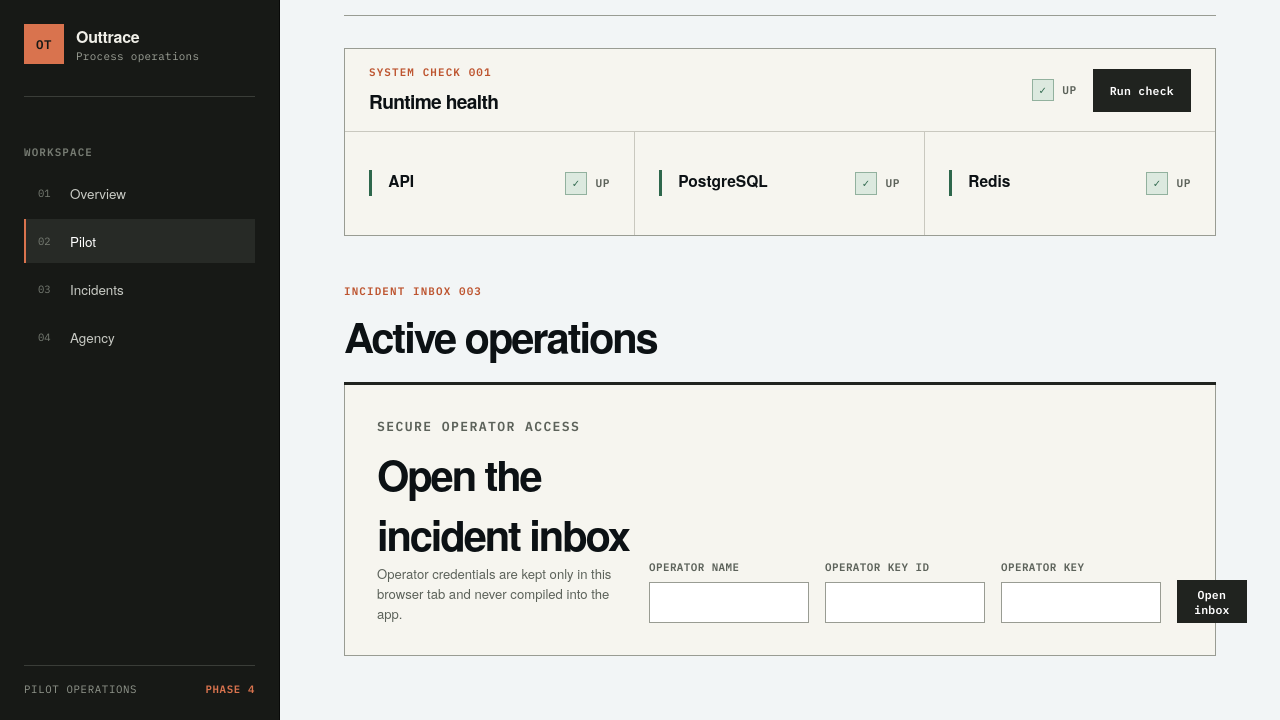
incident operations › authenticates an operator and renders a filterable incident
This screenshot has width=1280, height=720.
(page scrolled)
Type "Mina" into the field labelled "Operator name" at (729, 602), box [649,582,809,623]
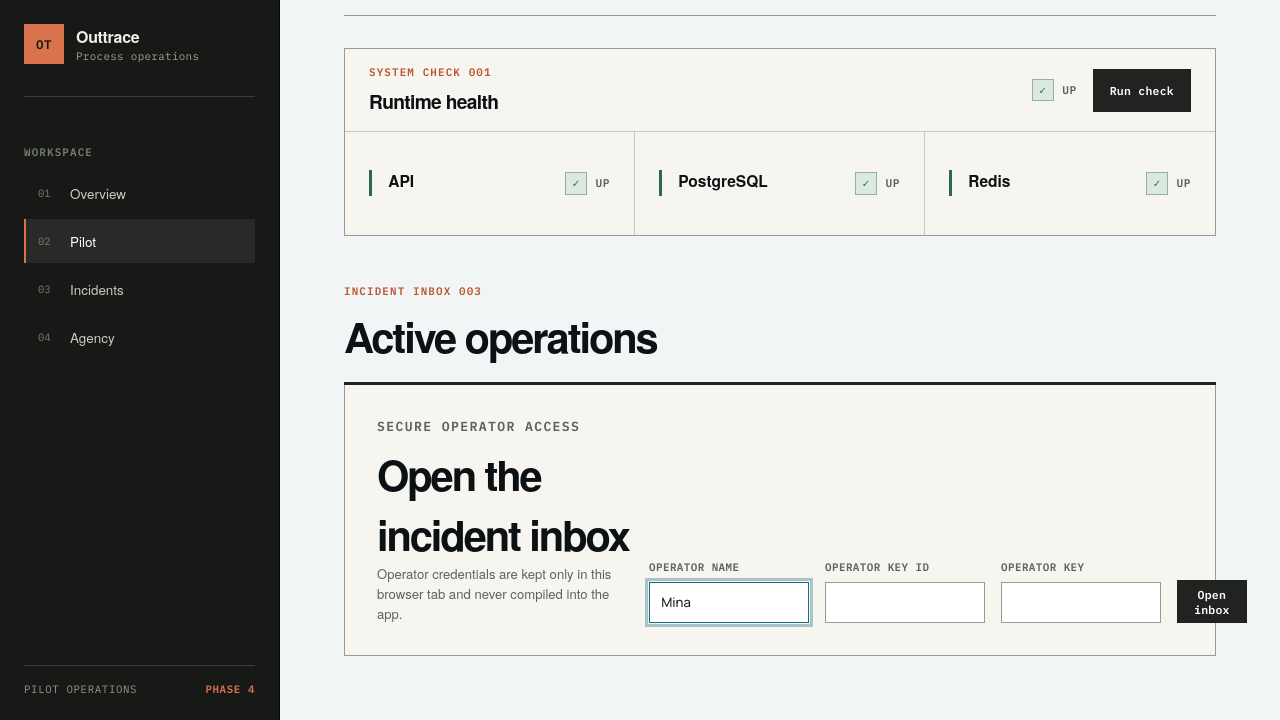
Type "operator_1" into the field labelled "Operator key ID" at (905, 602), box [825,582,985,623]
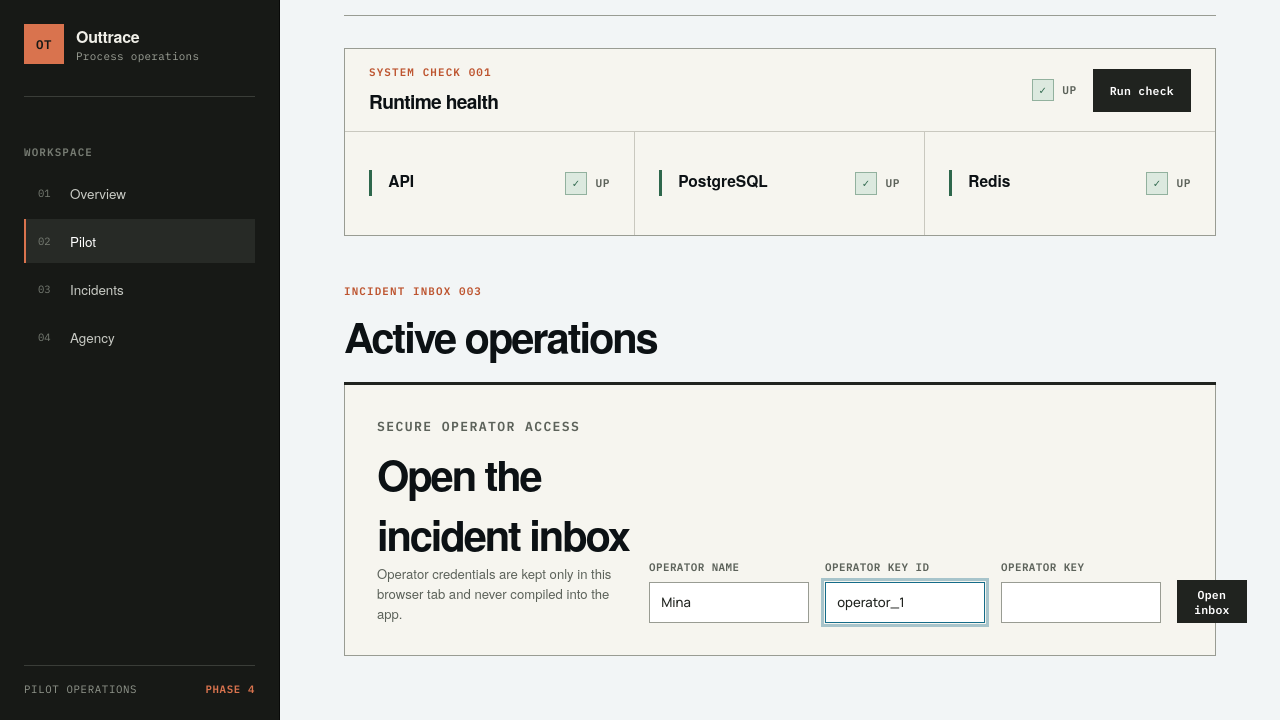
Type "secret" into the password field labelled "Operator key" at (1081, 602), box [1001,582,1161,623]
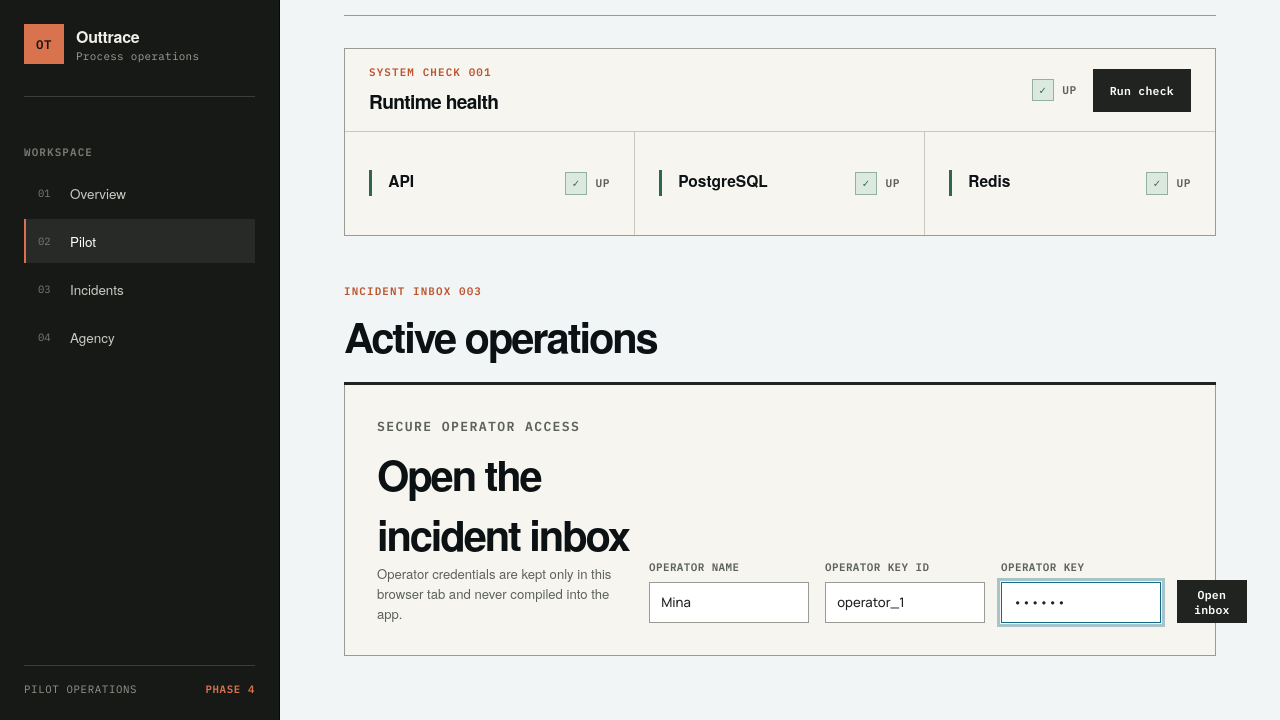
Click the button "Open inbox" at (1212, 602), box [1177,580,1247,623]
(page scrolled)
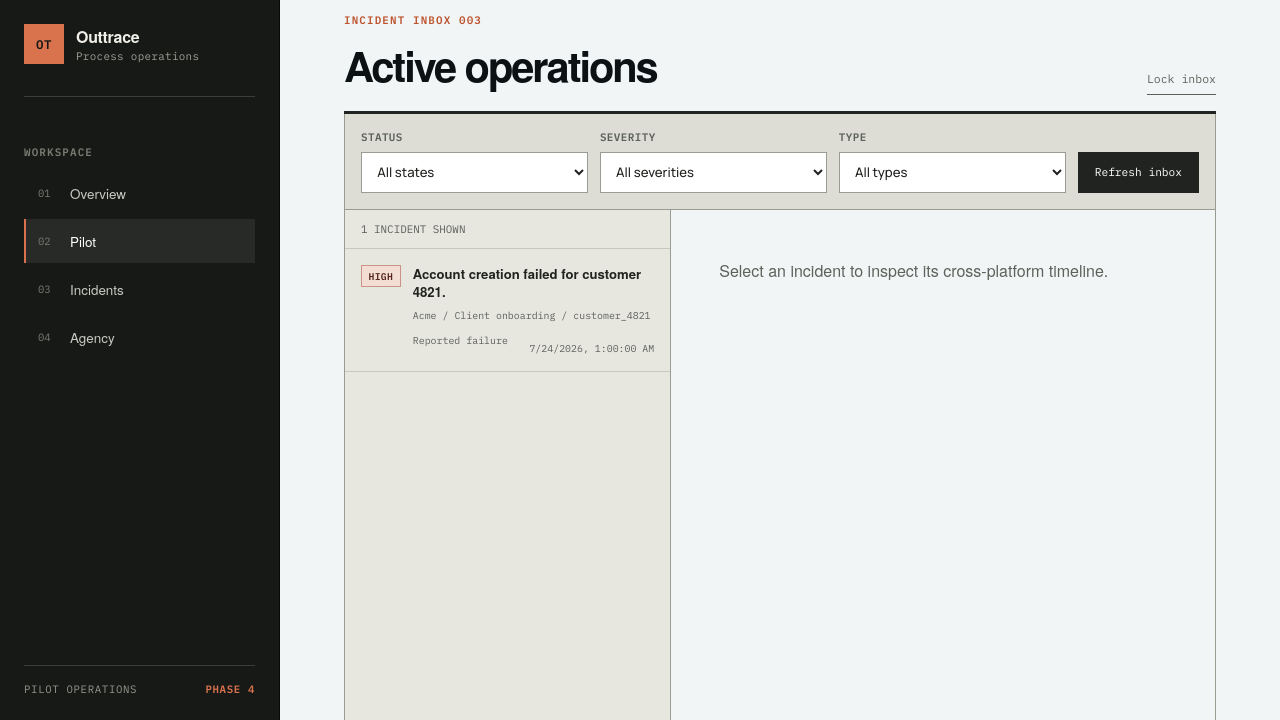
Result: the text "Account creation failed for customer 4821." is shown at [413,265,654,300]
Result: the text "1 incident shown" is shown at [345,210,670,249]
